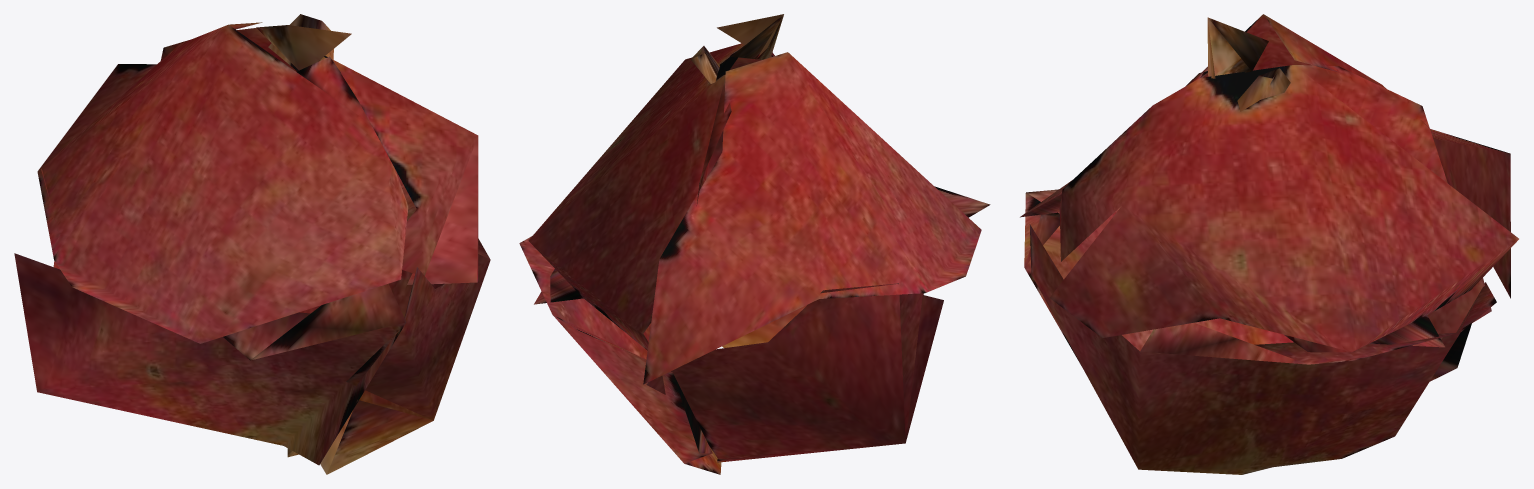
File: ph_food_pomegranate_01.glb
The picture shows the model from 3 angles, left to right: view 1: azimuth 30°, elevation 25°; view 2: azimuth 150°, elevation 25°; view 3: azimuth 270°, elevation 25°; orthographic projection. The views are drawn at different scales.
Visible parts, largest first — view 1: food_pomegranate_01; view 2: food_pomegranate_01; view 3: food_pomegranate_01.
Boxes of the visible parts, x1,y1,x2,y2 form: food_pomegranate_01: [14, 14, 490, 474]; food_pomegranate_01: [519, 14, 990, 474]; food_pomegranate_01: [1020, 14, 1518, 474].
Size of the model in its own units: 0.1221 by 0.1216 by 0.1226.
Materials: 1 (1 with a texture image).
